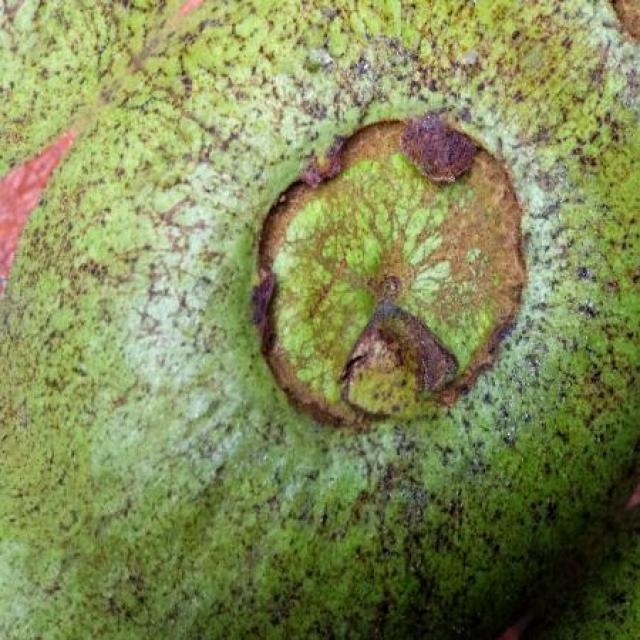Scab: (0, 0, 640, 640)
